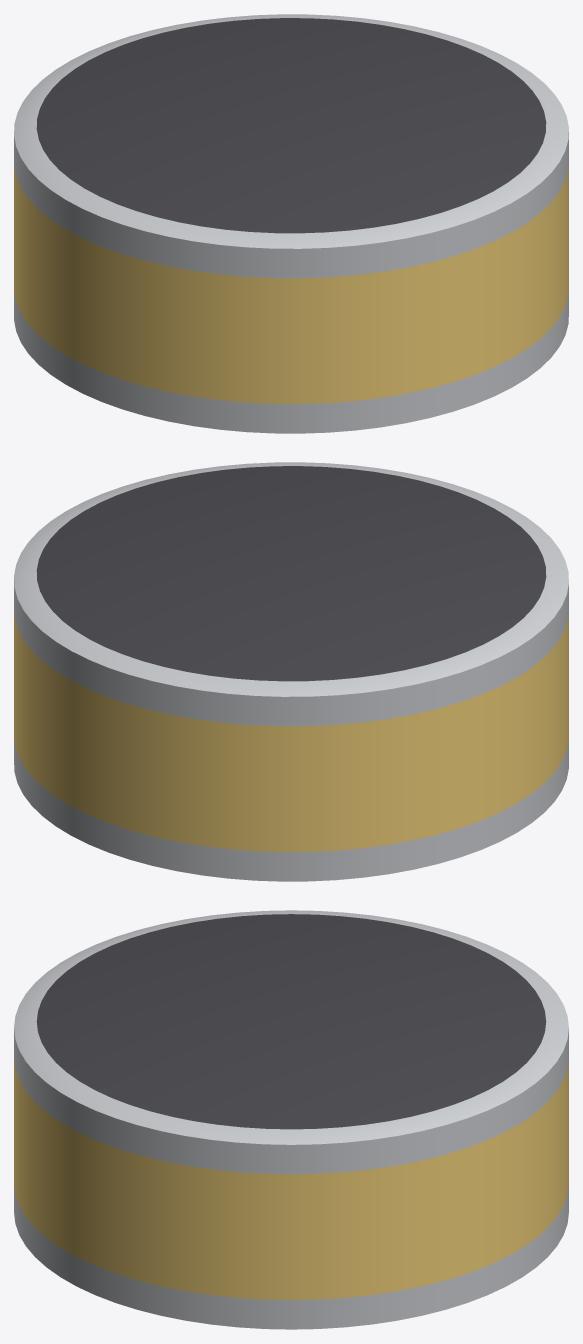
Rendered from mono_m.glb.
3 renders of one model, top to bottom at view 1: azimuth 30°, elevation 25°; view 2: azimuth 150°, elevation 25°; view 3: azimuth 270°, elevation 25°, orthographic.
Parts seen in each view (by area): view 1: mono_m; view 2: mono_m; view 3: mono_m.
Boxes of the visible parts, x1,y1,x2,y2 form: mono_m: [14, 14, 568, 433]; mono_m: [14, 462, 568, 881]; mono_m: [14, 910, 568, 1329].
Size of the model in its own units: 1.28 by 0.5 by 1.28.
